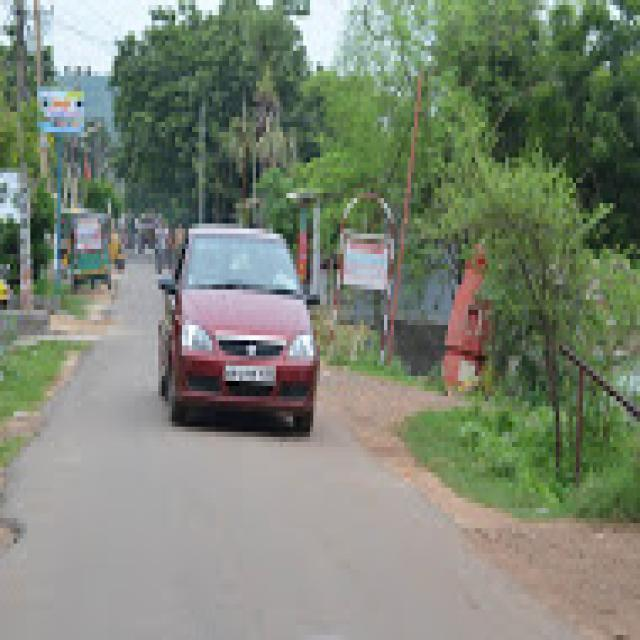car_front: (150, 203, 324, 438)
